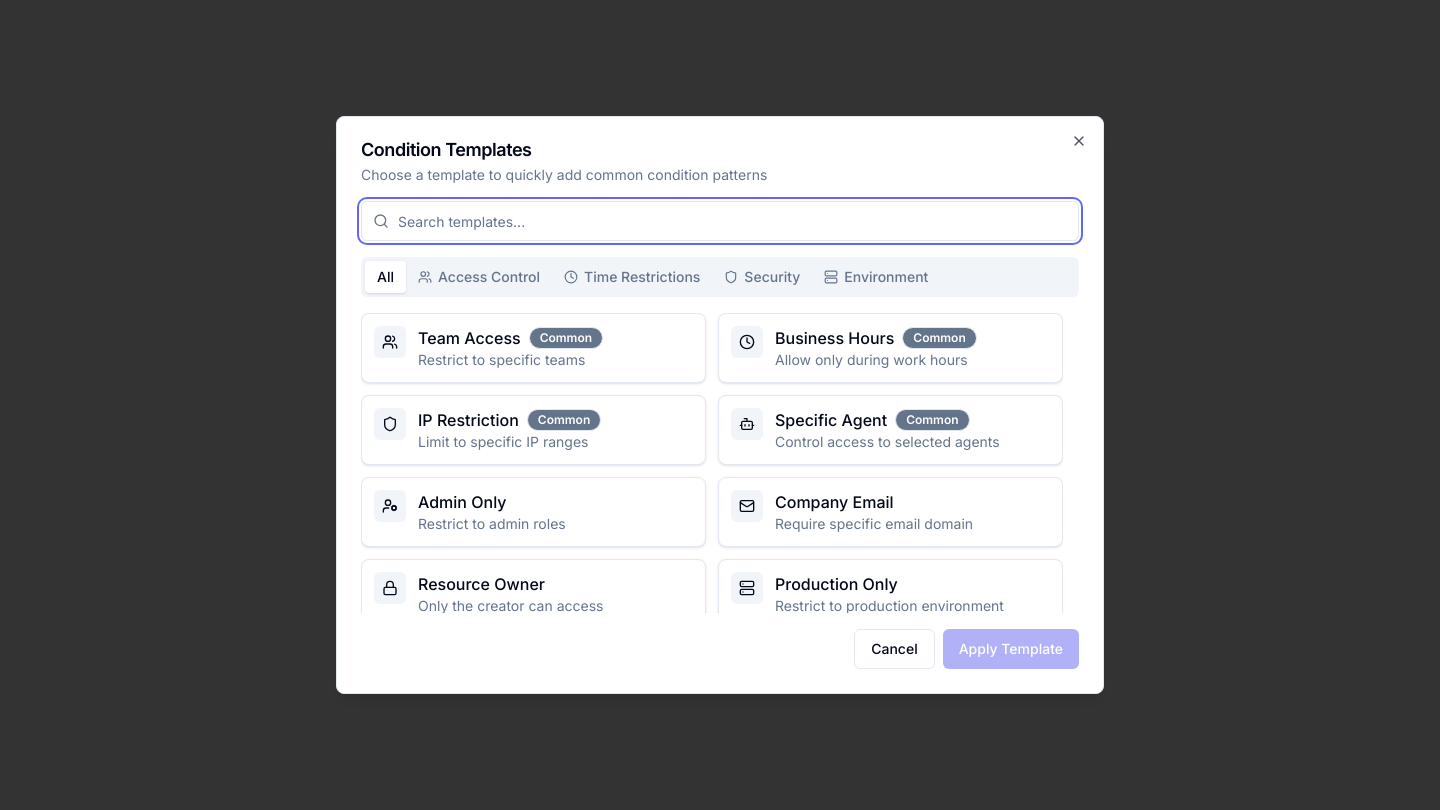
it: ConditionTemplatesModal › category tab filtering › filters templates by Time Restrictions category
Click the tab "Time Restrictions". click: (632, 277)
box: [552,261,712,293]
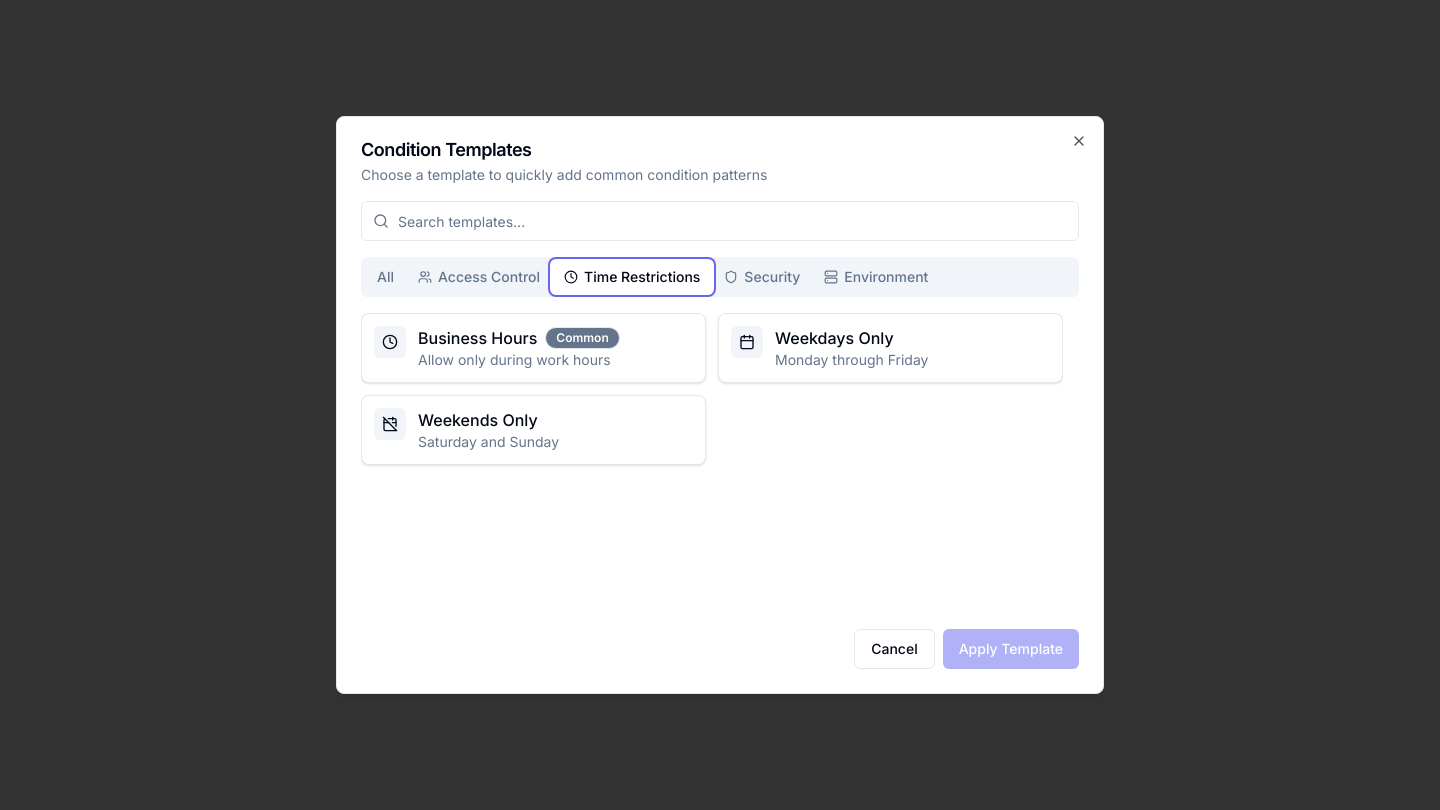
Check: the text "Business Hours" is shown, box [418,326,537,350]
Check: the text "Weekdays Only" is shown, box [775,326,894,350]
Check: the text "Weekends Only" is shown, box [418,408,538,432]
